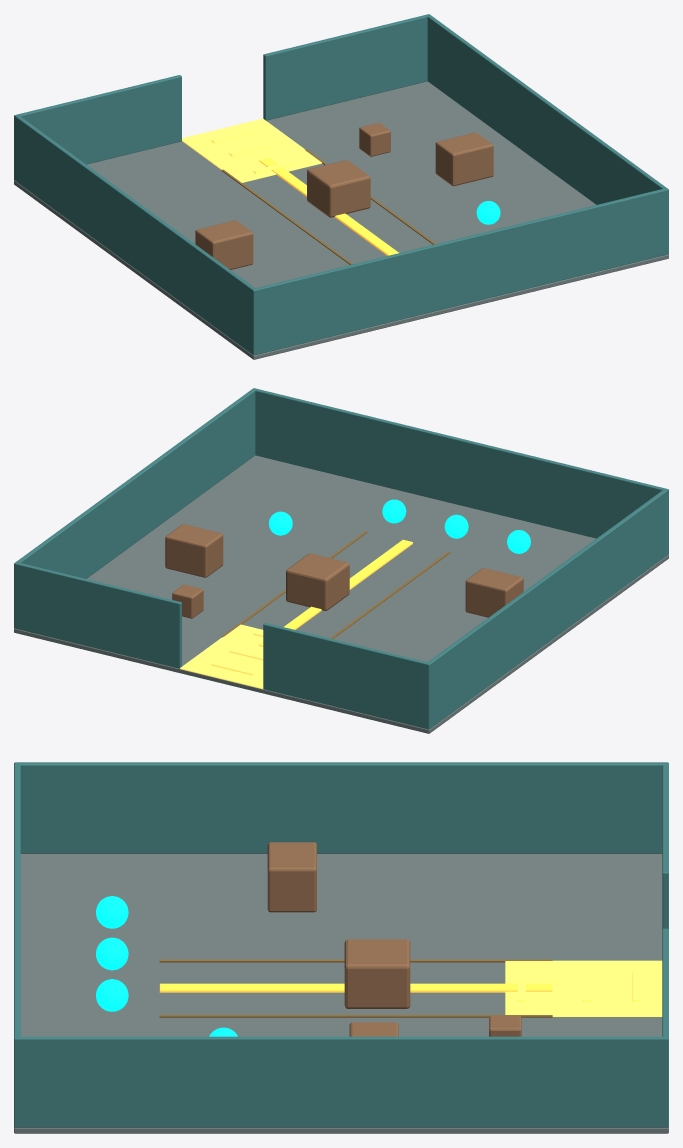
The model's file is saltglass_brine_docks_v2.glb.
3 views of the same model, one above another, from view 1: azimuth 30°, elevation 25°; view 2: azimuth 150°, elevation 25°; view 3: azimuth 270°, elevation 25° (orthographic). The views are drawn at different scales.
Parts seen in each view (by area): view 1: GB_floor_brine_docks, GB_wall_south, GB_wall_west, GB_wall_east, GB_wall_north_east, GB_wall_north_west, GB_exit_route, GB_cover_crate_center, GB_cover_crate_east, GB_cover_crate_west, GB_lane_flow_central, GB_cover_bollard; view 2: GB_floor_brine_docks, GB_wall_south, GB_wall_west, GB_wall_east, GB_wall_north_west, GB_wall_north_east, GB_cover_crate_center, GB_exit_route, GB_cover_crate_east, GB_cover_crate_west, GB_lane_flow_central, GB_cover_bollard; view 3: GB_floor_brine_docks, GB_wall_east, GB_wall_west, GB_exit_route, GB_cover_crate_center, GB_cover_crate_west, GB_lane_flow_central, GB_wall_south, GB_lane_guide_01, GB_wall_north_west, GB_lane_guide_02, GB_wall_north_east (+5 smaller).
Boxes of the visible parts, box(x1,y1,x2,y2) form: GB_floor_brine_docks: box(14, 81, 668, 359); GB_wall_south: box(251, 188, 668, 354); GB_wall_west: box(15, 114, 257, 355); GB_wall_east: box(427, 14, 668, 254); GB_wall_north_east: box(263, 14, 429, 120); GB_wall_north_west: box(14, 75, 181, 181); GB_exit_route: box(182, 118, 321, 182); GB_cover_crate_center: box(307, 160, 370, 217); GB_cover_crate_east: box(435, 132, 493, 186); GB_cover_crate_west: box(195, 220, 253, 269); GB_lane_flow_central: box(259, 158, 398, 255); GB_cover_bollard: box(359, 123, 390, 156); GB_floor_brine_docks: box(14, 455, 668, 733); GB_wall_south: box(252, 388, 668, 555); GB_wall_west: box(425, 488, 668, 729); GB_wall_east: box(14, 388, 255, 628); GB_wall_north_west: box(263, 623, 431, 729); GB_wall_north_east: box(14, 562, 181, 668); GB_cover_crate_center: box(286, 553, 349, 610); GB_exit_route: box(180, 624, 263, 689); GB_cover_crate_east: box(165, 524, 223, 577); GB_cover_crate_west: box(465, 568, 523, 617); GB_lane_flow_central: box(259, 539, 412, 646); GB_cover_bollard: box(172, 584, 203, 618); GB_floor_brine_docks: box(14, 853, 668, 1133); GB_wall_east: box(14, 1036, 668, 1127); GB_wall_west: box(14, 762, 668, 853); GB_exit_route: box(505, 960, 662, 1016); GB_cover_crate_center: box(344, 939, 410, 1008); GB_cover_crate_west: box(267, 842, 316, 912); GB_lane_flow_central: box(159, 983, 552, 992); GB_wall_south: box(14, 762, 20, 1127); GB_lane_guide_01: box(159, 959, 552, 962); GB_wall_north_west: box(662, 762, 668, 928); GB_lane_guide_02: box(159, 1015, 552, 1017); GB_wall_north_east: box(662, 928, 668, 1127).
Size of the model in its own units: 20 by 3.2 by 20.
